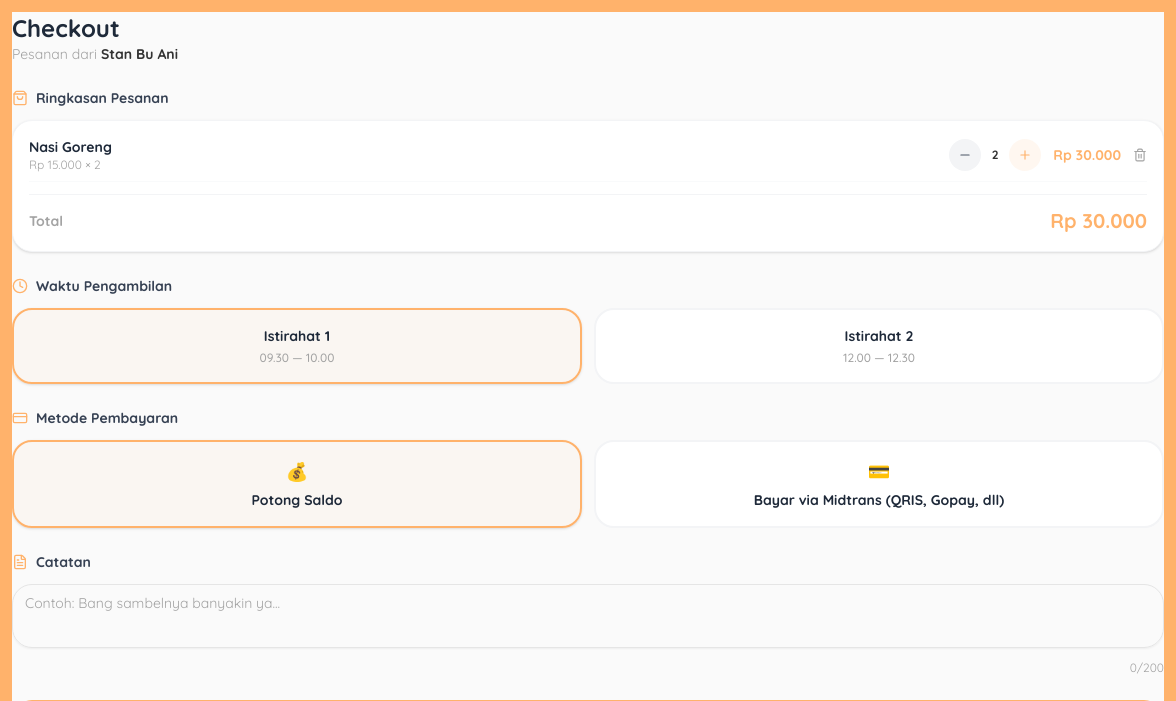
it: CheckoutForm › can increment and decrement item quantity
What coordinates should you click on to do the following:
click the button named "tambah nasi goreng"
I would click on:
 (1025, 155)
Its box is left=1009, top=139, right=1041, bottom=171.
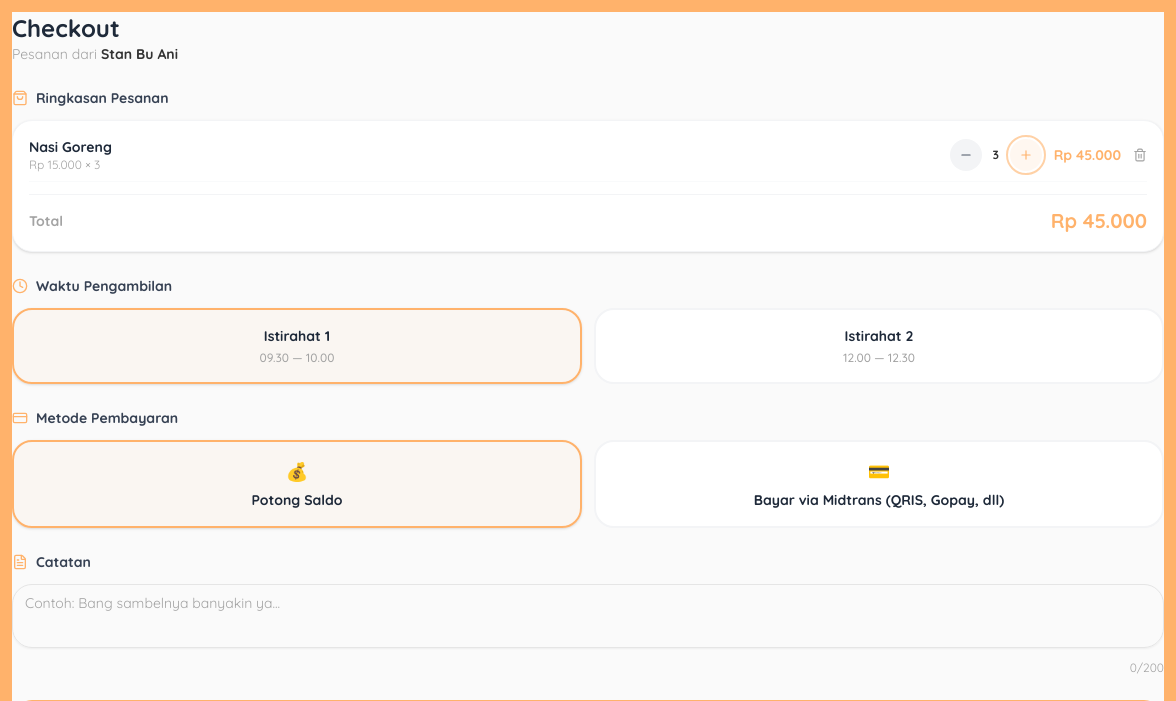
Check: the text "3" is shown, box left=992, top=147, right=999, bottom=162
